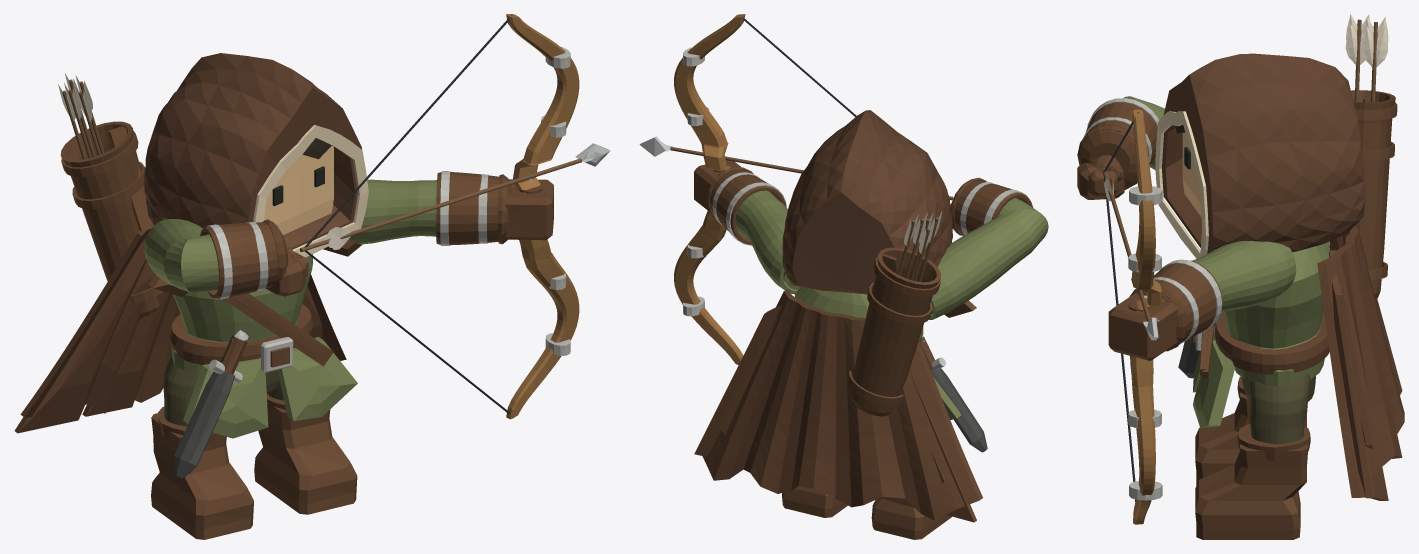
Rendered from wyvernhunter.glb.
3 renders of one model, left to right at view 1: azimuth 30°, elevation 25°; view 2: azimuth 150°, elevation 25°; view 3: azimuth 270°, elevation 25°, orthographic. The views are drawn at different scales.
Parts seen in each view (by area): view 1: Hood — peaked source fold facets and closed fitted inner cav, LEFT boot — broad source angular toe ankle and fitted shaft, RIGHT boot — broad source angular toe ankle and fitted shaft, LEFT extended bow arm hand — one connected source glove wris, RIGHT rear quiver — substantial hollow leather cup with actu, RIGHT drawn arrow arm hand — one connected source glove wris, RIGHT broad hanging cape crease 3, Cape — connected draped folded rear fabric with source scall, Torso — clothed rib cage abdomen and fitted shoulder transit, RIGHT drawn arrow arm — full outer sleeve with open fitted w, LEFT extended bow arm — full outer sleeve with open fitted w, Upper bow limb — shooting-plane broad angular taper and real (+17 smaller); view 2: Cape — connected draped folded rear fabric with source scall, Hood — peaked source fold facets and closed fitted inner cav, RIGHT rear quiver — substantial hollow leather cup with actu, RIGHT drawn arrow arm — full outer sleeve with open fitted w, Upper bow limb — shooting-plane broad angular taper and real, LEFT extended bow arm hand — one connected source glove wris, LEFT extended bow arm — full outer sleeve with open fitted w, Lower bow limb — shooting-plane broad angular taper and real, RIGHT drawn arrow arm hand — one connected source glove wris, LEFT broad hanging cape crease 3, RIGHT boot — broad source angular toe ankle and fitted shaft, Torso — clothed rib cage abdomen and fitted shoulder transit (+8 smaller); view 3: Hood — peaked source fold facets and closed fitted inner cav, Cape — connected draped folded rear fabric with source scall, LEFT boot — broad source angular toe ankle and fitted shaft, LEFT extended bow arm hand — one connected source glove wris, Torso — clothed rib cage abdomen and fitted shoulder transit, RIGHT drawn arrow arm hand — one connected source glove wris, LEFT extended bow arm — full outer sleeve with open fitted w, RIGHT rear quiver — substantial hollow leather cup with actu, Ranger — connected pelvis thighs knees and calves under clot, Belt — fitted broad leather wrap, Upper bow limb — shooting-plane broad angular taper and real, Lower bow limb — shooting-plane broad angular taper and real (+14 smaller).
Part boxes in pixels (x1,y1,x2,y2): Hood — peaked source fold facets and closed fitted inner cav: (144,53,361,249); LEFT boot — broad source angular toe ankle and fitted shaft: (254,406,357,514); RIGHT boot — broad source angular toe ankle and fitted shaft: (151,413,253,539); LEFT extended bow arm hand — one connected source glove wris: (436,171,553,245); RIGHT rear quiver — substantial hollow leather cup with actu: (60,121,170,318); RIGHT drawn arrow arm hand — one connected source glove wris: (200,219,308,299); RIGHT broad hanging cape crease 3: (14,243,146,433); Cape — connected draped folded rear fabric with source scall: (20,228,346,417); Torso — clothed rib cage abdomen and fitted shoulder transit: (171,254,312,372); RIGHT drawn arrow arm — full outer sleeve with open fitted w: (144,219,218,293); LEFT extended bow arm — full outer sleeve with open fitted w: (349,179,436,244); Upper bow limb — shooting-plane broad angular taper and real: (506,14,579,193); Cape — connected draped folded rear fabric with source scall: (702,289,982,520); Hood — peaked source fold facets and closed fitted inner cav: (782,110,952,294); RIGHT rear quiver — substantial hollow leather cup with actu: (850,247,940,416); RIGHT drawn arrow arm — full outer sleeve with open fitted w: (928,198,1048,319); Upper bow limb — shooting-plane broad angular taper and real: (674,14,745,171); LEFT extended bow arm hand — one connected source glove wris: (694,160,786,245); LEFT extended bow arm — full outer sleeve with open fitted w: (735,190,797,294); Lower bow limb — shooting-plane broad angular taper and real: (674,211,743,364); RIGHT drawn arrow arm hand — one connected source glove wris: (950,177,1033,235); LEFT broad hanging cape crease 3: (694,305,781,456); RIGHT boot — broad source angular toe ankle and fitted shaft: (871,498,951,539); Torso — clothed rib cage abdomen and fitted shoulder transit: (795,287,923,342); Hood — peaked source fold facets and closed fitted inner cav: (1162,53,1365,253); Cape — connected draped folded rear fabric with source scall: (1317,224,1404,500); LEFT boot — broad source angular toe ankle and fitted shaft: (1195,444,1308,539); LEFT extended bow arm hand — one connected source glove wris: (1108,259,1222,360); Torso — clothed rib cage abdomen and fitted shoulder transit: (1223,241,1329,386); RIGHT drawn arrow arm hand — one connected source glove wris: (1077,98,1159,199); LEFT extended bow arm — full outer sleeve with open fitted w: (1192,241,1296,311); RIGHT rear quiver — substantial hollow leather cup with actu: (1342,90,1395,298); Ranger — connected pelvis thighs knees and calves under clot: (1241,373,1315,444); Belt — fitted broad leather wrap: (1214,311,1329,374); Upper bow limb — shooting-plane broad angular taper and real: (1131,109,1161,311); Lower bow limb — shooting-plane broad angular taper and real: (1130,356,1155,524).
Bounding box in the file's own units: 1.2 × 1.12 × 0.6799.
